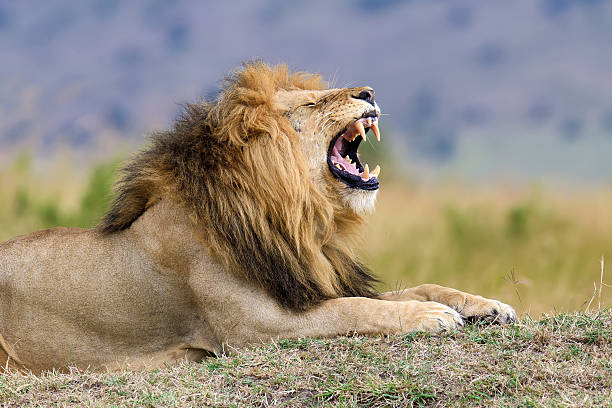lion: (93, 42, 401, 318)
